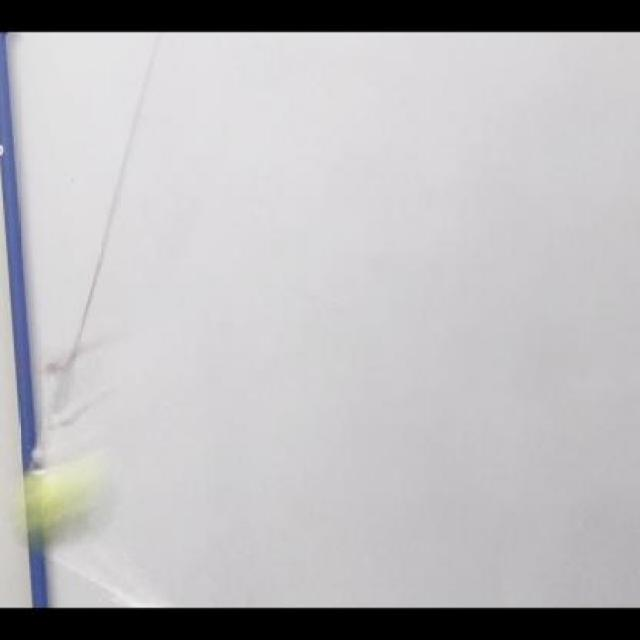baseball: (15, 454, 117, 551)
